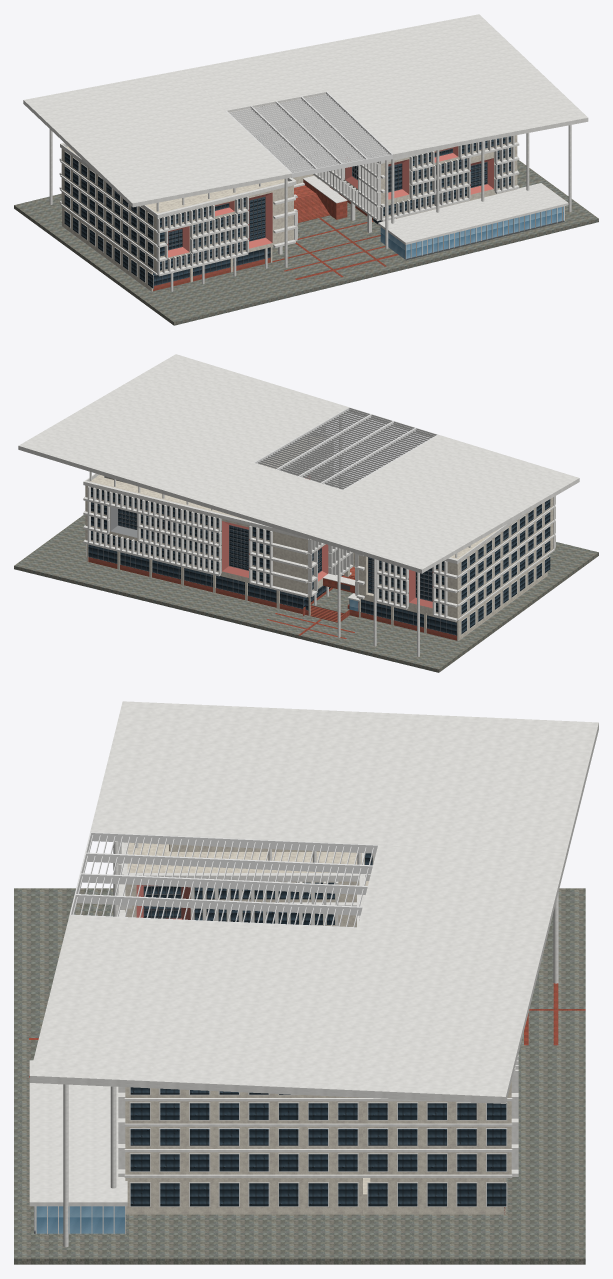
File: gateway_building (1).glb
The picture shows the model from 3 angles, top to bottom: view 1: azimuth 30°, elevation 25°; view 2: azimuth 150°, elevation 25°; view 3: azimuth 270°, elevation 25°; orthographic projection. The views are drawn at different scales.
Visible parts, largest first — view 1: Gateway_White, Gateway_Kota, Gateway_GlassD, Gateway_Plaster, Gateway_Steel, Gateway_Sand, Gateway_GlassB, Gateway_FrameRed, Gateway_Alu; view 2: Gateway_White, Gateway_Kota, Gateway_GlassD, Gateway_Plaster, Gateway_Steel, Gateway_Sand, Gateway_Alu, Gateway_FrameRed; view 3: Gateway_White, Gateway_Kota, Gateway_Plaster, Gateway_GlassD, Gateway_Steel, Gateway_GlassB.
Part boxes in pixels (x1,y1,x2,y2): Gateway_White: (23, 14, 588, 291); Gateway_Kota: (14, 160, 598, 325); Gateway_GlassD: (64, 136, 510, 288); Gateway_Plaster: (61, 95, 517, 291); Gateway_Steel: (226, 92, 393, 177); Gateway_Sand: (151, 179, 398, 291); Gateway_GlassB: (380, 206, 563, 259); Gateway_FrameRed: (167, 146, 493, 257); Gateway_Alu: (154, 148, 564, 285); Gateway_White: (18, 354, 579, 656); Gateway_Kota: (14, 515, 598, 672); Gateway_GlassD: (88, 457, 550, 635); Gateway_Plaster: (85, 436, 553, 641); Gateway_Steel: (254, 407, 438, 489); Gateway_Sand: (88, 557, 456, 640); Gateway_Alu: (88, 509, 456, 635); Gateway_FrameRed: (222, 475, 433, 608); Gateway_White: (29, 701, 598, 1247); Gateway_Kota: (14, 888, 585, 1264); Gateway_Plaster: (125, 842, 511, 1214); Gateway_GlassD: (130, 853, 506, 1206); Gateway_Steel: (69, 832, 377, 927); Gateway_GlassB: (36, 1206, 124, 1233).
Bounding box in the file's own units: 126 × 27.25 × 78.78.
Materials: 14 (9 with a texture image).
